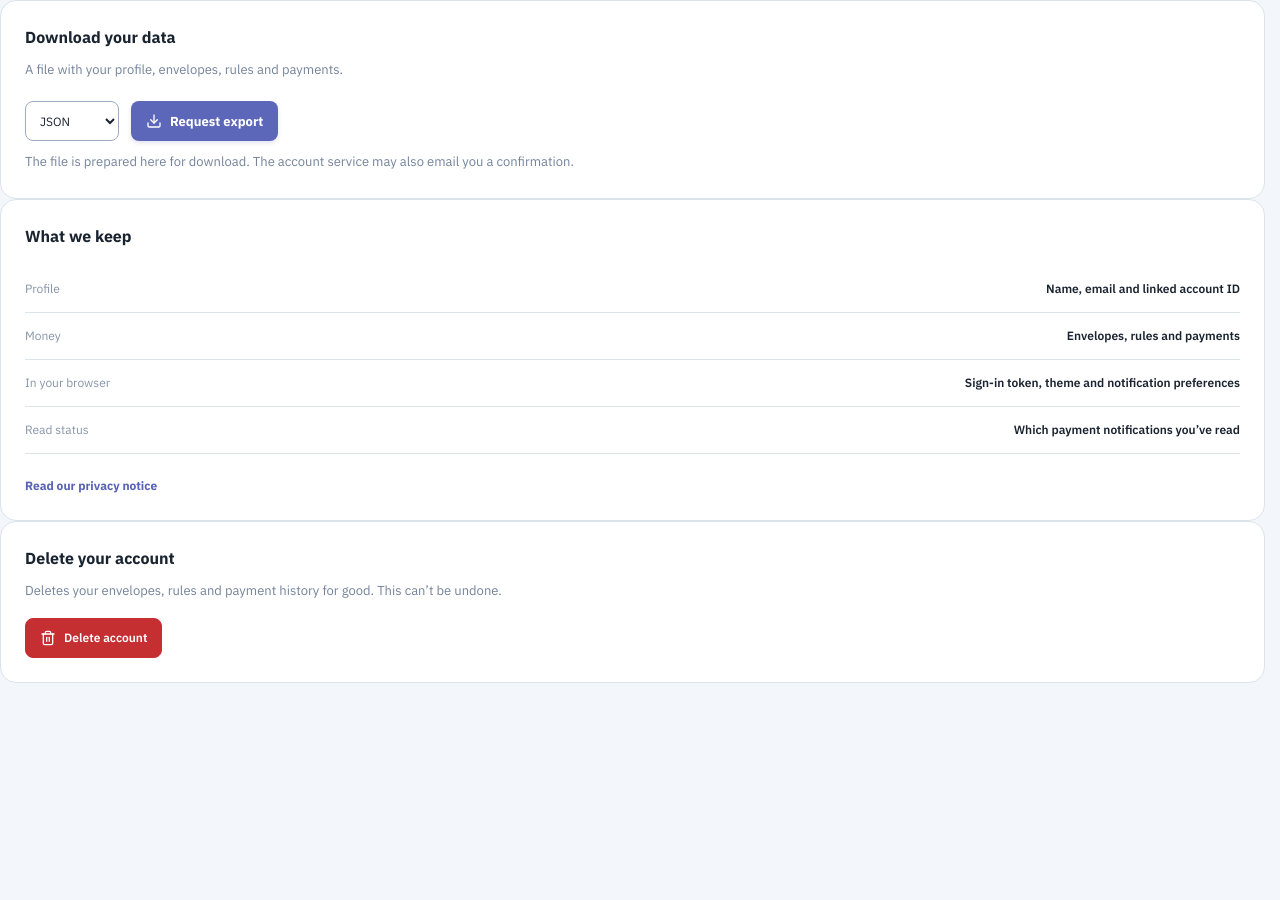
Test: PrivacySettings — GDPR export › refuses an export that is not the promised file type
This screenshot has width=1280, height=900.
Click the button "Request export": (205, 121) [131,101,278,141]
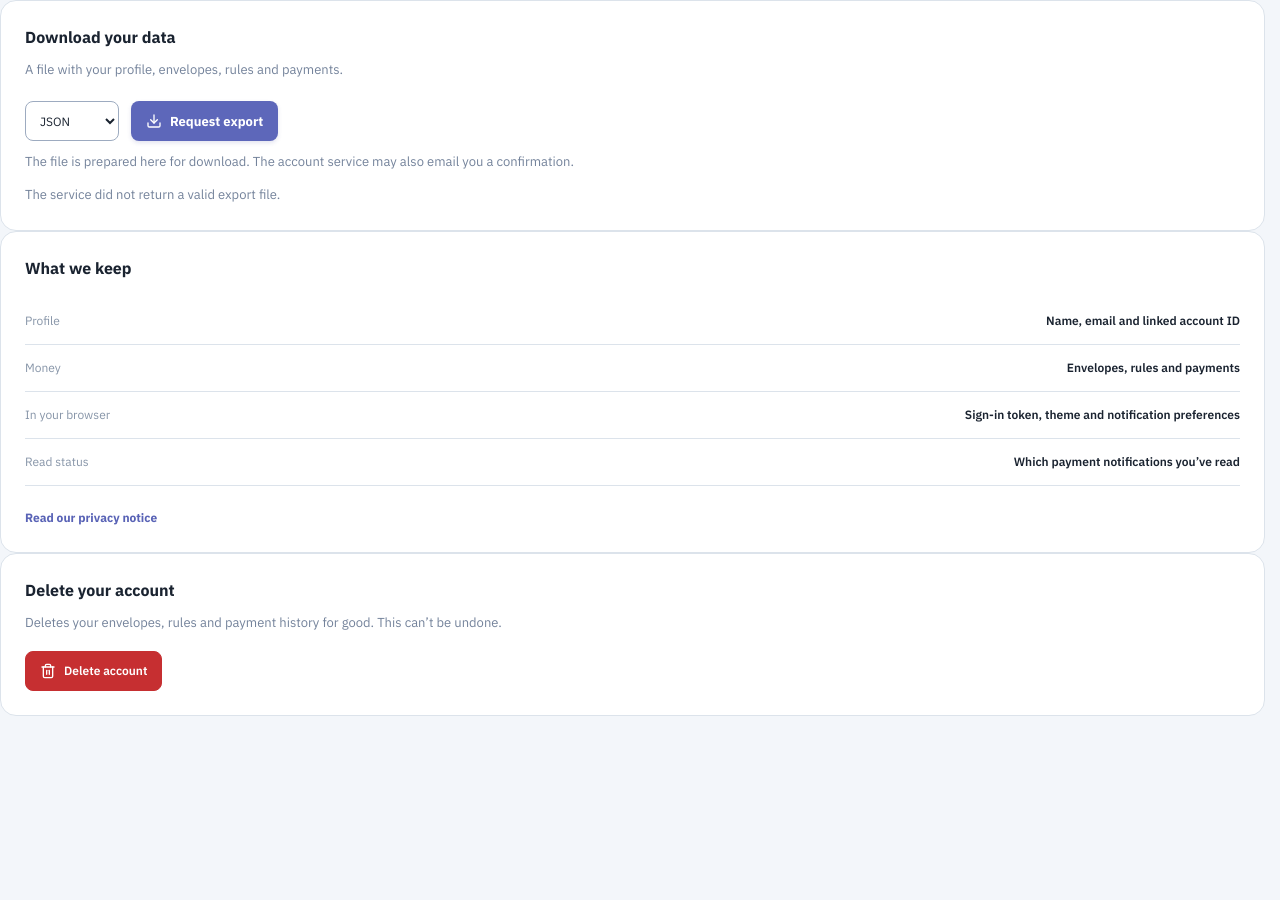
Expected: the message reads "The service did not return a valid export file.", [25,186,280,203]
